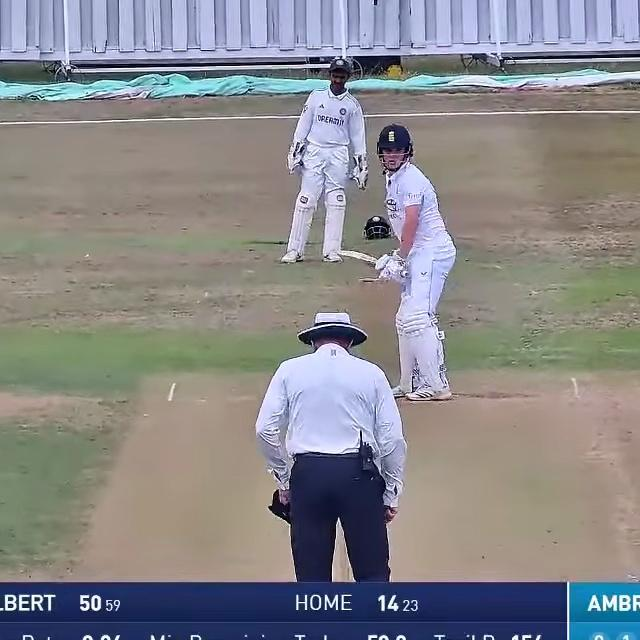umpire: (252, 302, 412, 584)
